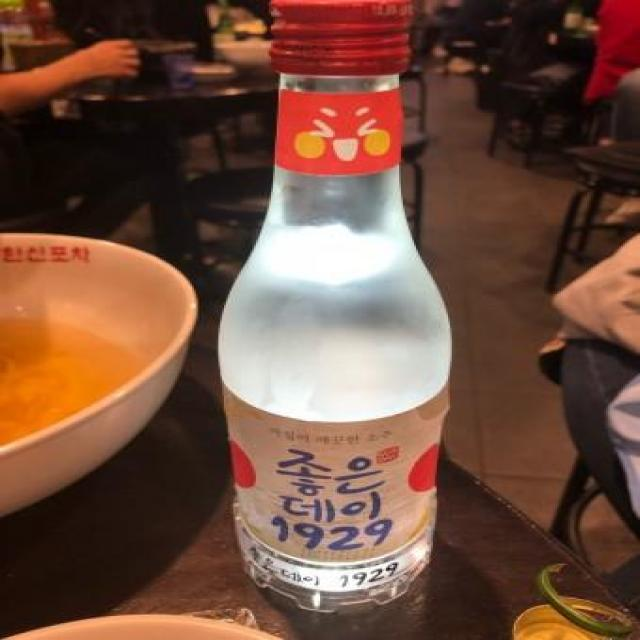soju-bottle: (216, 1, 449, 595)
